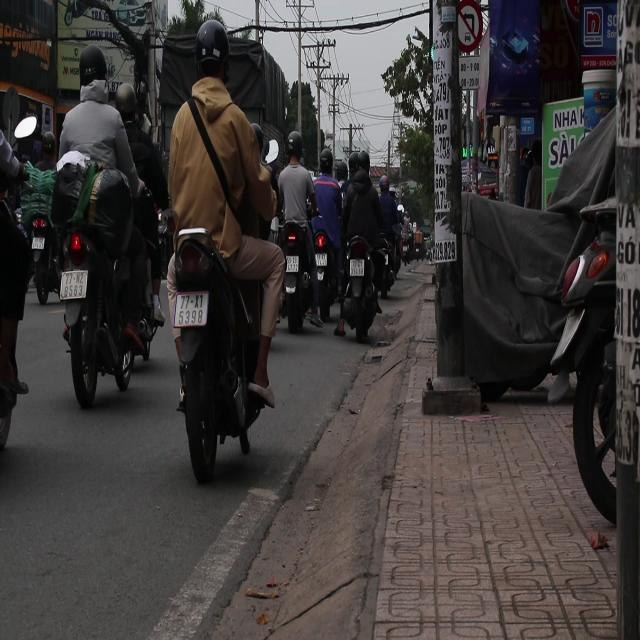motorbike: (164, 206, 269, 480), (62, 187, 152, 408), (270, 212, 321, 336), (340, 235, 383, 342)
